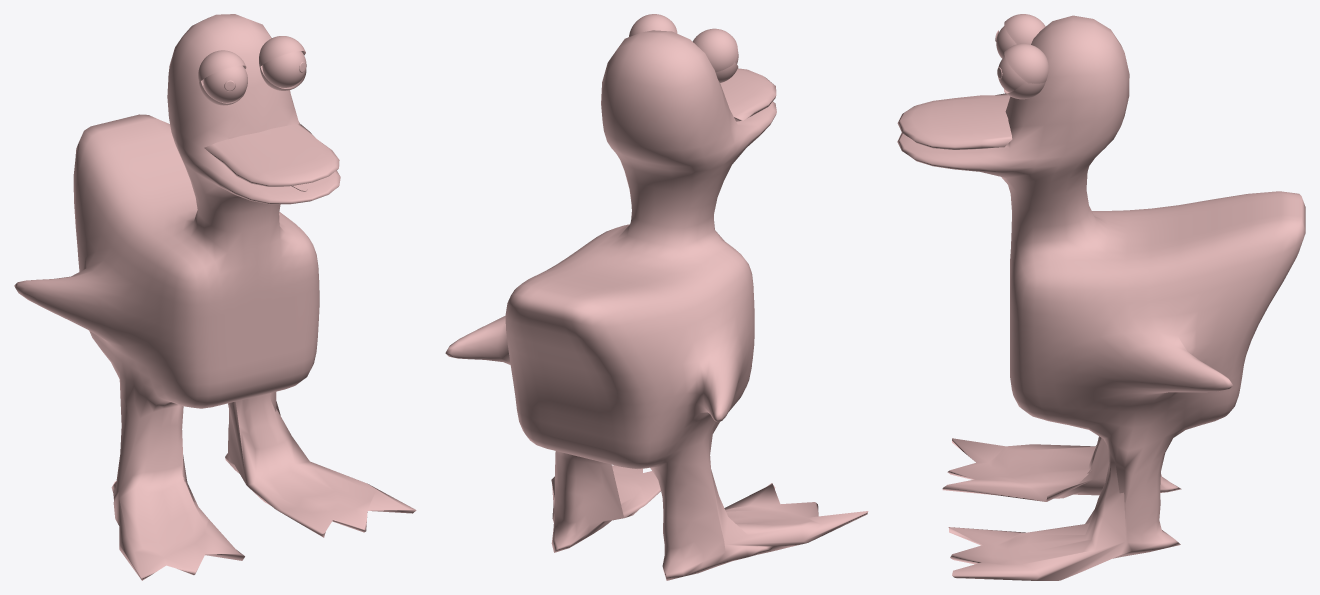
Rendered from Duck2.fbx.
3 views of the same model, side by side, from view 1: azimuth 30°, elevation 25°; view 2: azimuth 150°, elevation 25°; view 3: azimuth 270°, elevation 25° (orthographic). The views are drawn at different scales.
Parts seen in each view (by area): view 1: polySurface3; view 2: polySurface3; view 3: polySurface3.
Boxes of the visible parts, x1,y1,x2,y2 form: polySurface3: (14,14,416,580); polySurface3: (445,14,868,580); polySurface3: (897,14,1305,580).
Size of the model in its own units: 11.21 by 13.81 by 18.75.
